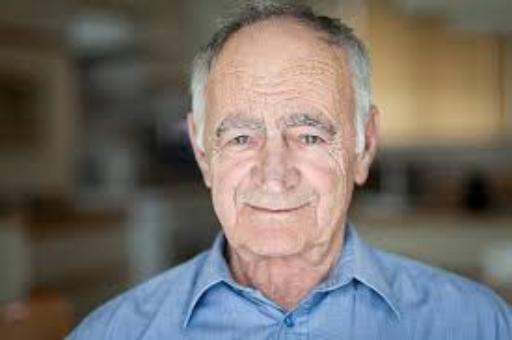left_eye: (293, 134, 333, 150)
left_lip_corner: (298, 200, 314, 214)
right_eye: (224, 135, 259, 150)
right_lip_corner: (242, 202, 259, 215)
